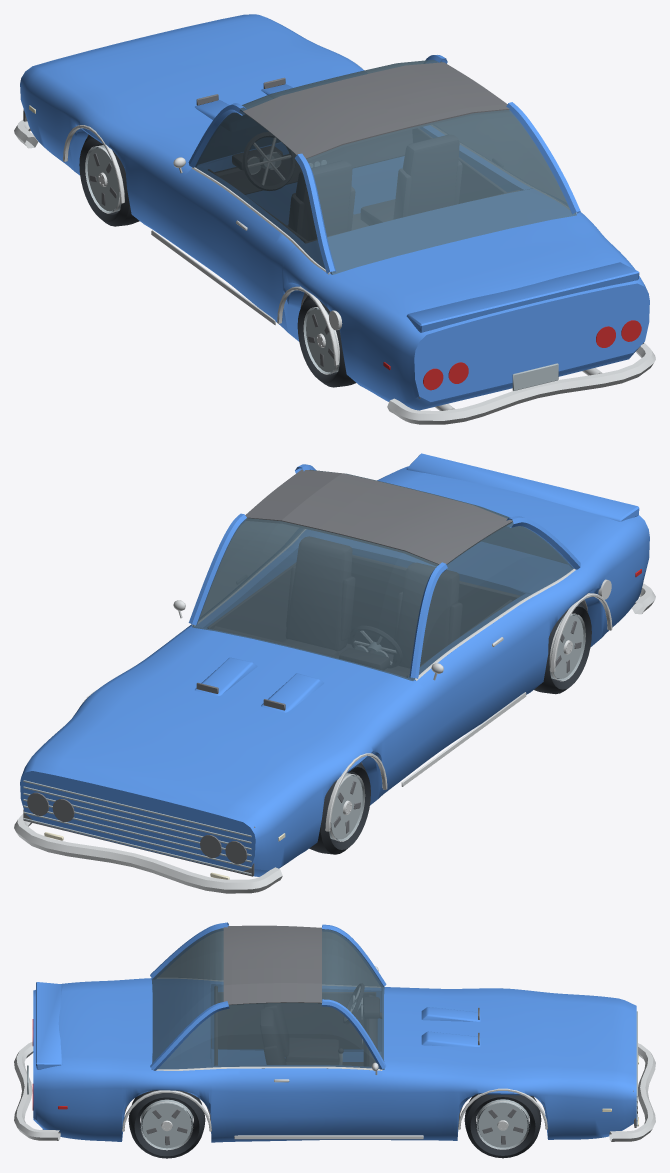
The model's file is Brawler.fbx.
The picture shows the model from 3 angles, top to bottom: view 1: azimuth 30°, elevation 25°; view 2: azimuth 150°, elevation 25°; view 3: azimuth 270°, elevation 25°; orthographic projection. The views are drawn at different scales.
Visible parts, largest first — view 1: Body__paint, Body__glass, Body__engine, Body__interior, Body__chrome, WheelFL__metal, Body__tail, WheelFL__rubber, WheelRL__rubber, WheelRL__metal, Body__metal, Steer__interior; view 2: Body__paint, Body__glass, Body__interior, Body__engine, Body__chrome, Body__metal, WheelFL__metal, WheelFL__rubber, WheelRL__rubber, WheelRL__metal; view 3: Body__paint, Body__glass, Body__interior, Body__engine, Body__chrome, WheelRR__rubber, WheelFR__rubber, WheelFR__metal, WheelRR__metal.
Part boxes in pixels (box(x1,y1,x2,y2)): Body__paint: box(20, 14, 649, 410); Body__glass: box(195, 59, 576, 274); Body__engine: box(23, 62, 643, 398); Body__interior: box(208, 128, 519, 243); Body__chrome: box(14, 62, 655, 424); WheelFL__metal: box(85, 145, 121, 212); Body__tail: box(383, 320, 641, 390); WheelFL__rubber: box(79, 135, 139, 226); WheelRL__rubber: box(297, 295, 355, 387); WheelRL__metal: box(303, 307, 339, 373); Body__metal: box(248, 153, 558, 390); Steer__interior: box(243, 132, 294, 190); Body__paint: box(20, 453, 649, 876); Body__glass: box(192, 469, 573, 680); Body__interior: box(208, 536, 519, 677); Body__engine: box(23, 469, 587, 876); Body__chrome: box(14, 529, 655, 893); Body__metal: box(23, 646, 386, 874); WheelFL__metal: box(329, 773, 364, 841); WheelFL__rubber: box(309, 763, 370, 854); WheelRL__rubber: box(534, 602, 591, 694); WheelRL__metal: box(549, 614, 585, 680); Body__paint: box(33, 922, 636, 1142); Body__glass: box(151, 928, 384, 1069); Body__interior: box(214, 986, 381, 1066); Body__engine: box(34, 925, 637, 1127); Body__chrome: box(14, 966, 655, 1141); WheelRR__rubber: box(128, 1090, 205, 1158); WheelFR__rubber: box(464, 1094, 541, 1158); WheelFR__metal: box(477, 1099, 528, 1149); WheelRR__metal: box(141, 1099, 192, 1149).
Bounding box in the file's own units: 2.08 × 1.45 × 5.43.
